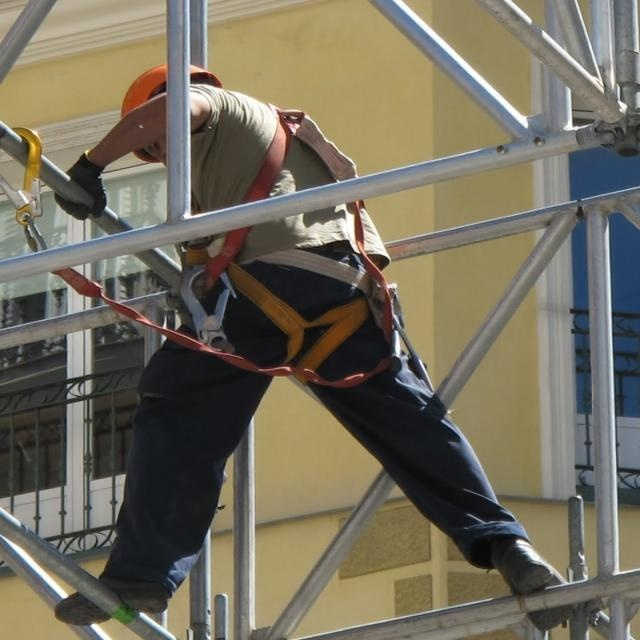Arnes_seguridad: (187, 90, 390, 385)
